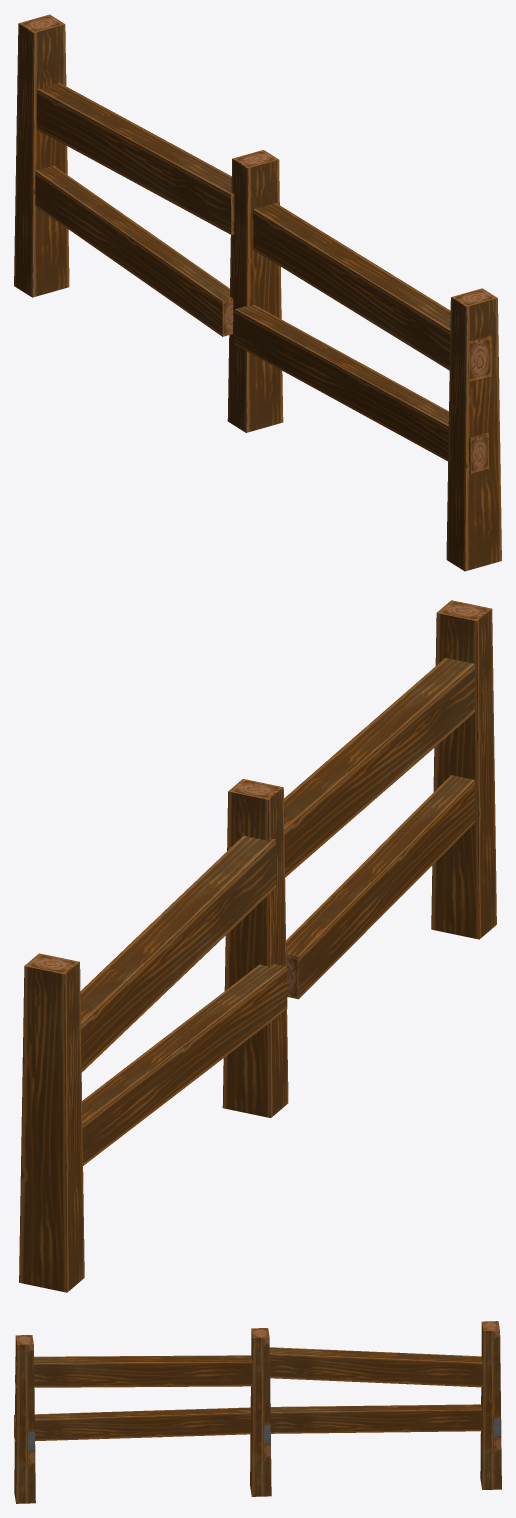
The picture shows the model from 3 angles, top to bottom: view 1: azimuth 30°, elevation 25°; view 2: azimuth 150°, elevation 25°; view 3: azimuth 270°, elevation 25°; orthographic projection. The views are drawn at different scales.
Parts seen in each view (by area): view 1: Cube.010; view 2: Cube.010; view 3: Cube.010.
Part boxes in pixels (x1,y1,x2,y2): Cube.010: [14, 14, 501, 571]; Cube.010: [19, 600, 496, 1292]; Cube.010: [14, 1321, 501, 1503].
Bounding box in the file's own units: 44.74 × 132 × 369.
Materials: 1 (1 with a texture image).
